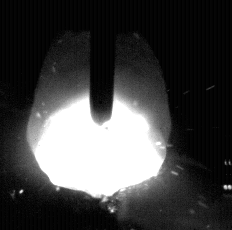arame: (90, 0, 114, 126)
poca: (25, 0, 169, 230)
